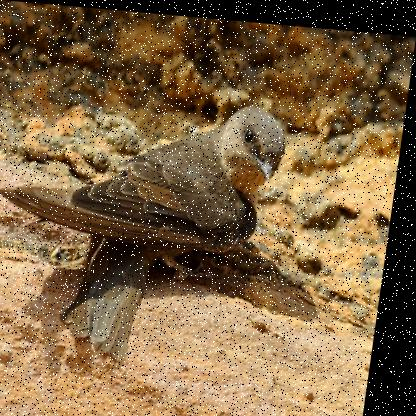Burung: (0, 83, 293, 371)
